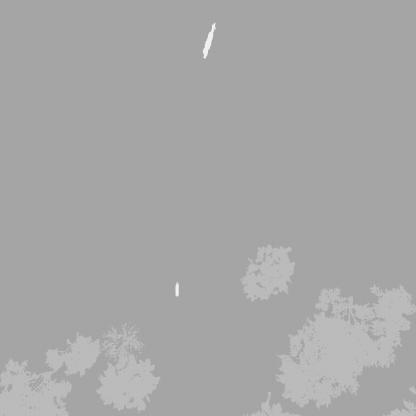rehkitze: (203, 23, 219, 59), (173, 279, 182, 299)
